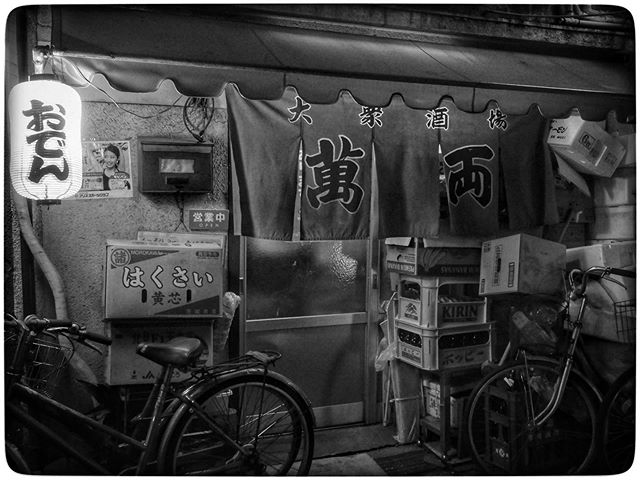bicicle: (1, 316, 324, 480), (469, 265, 638, 472)
door: (238, 156, 376, 421)
sign: (227, 61, 564, 231)
